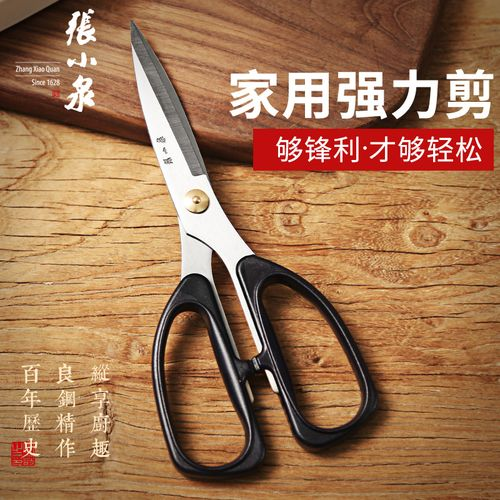scissor: (129, 19, 378, 480)
